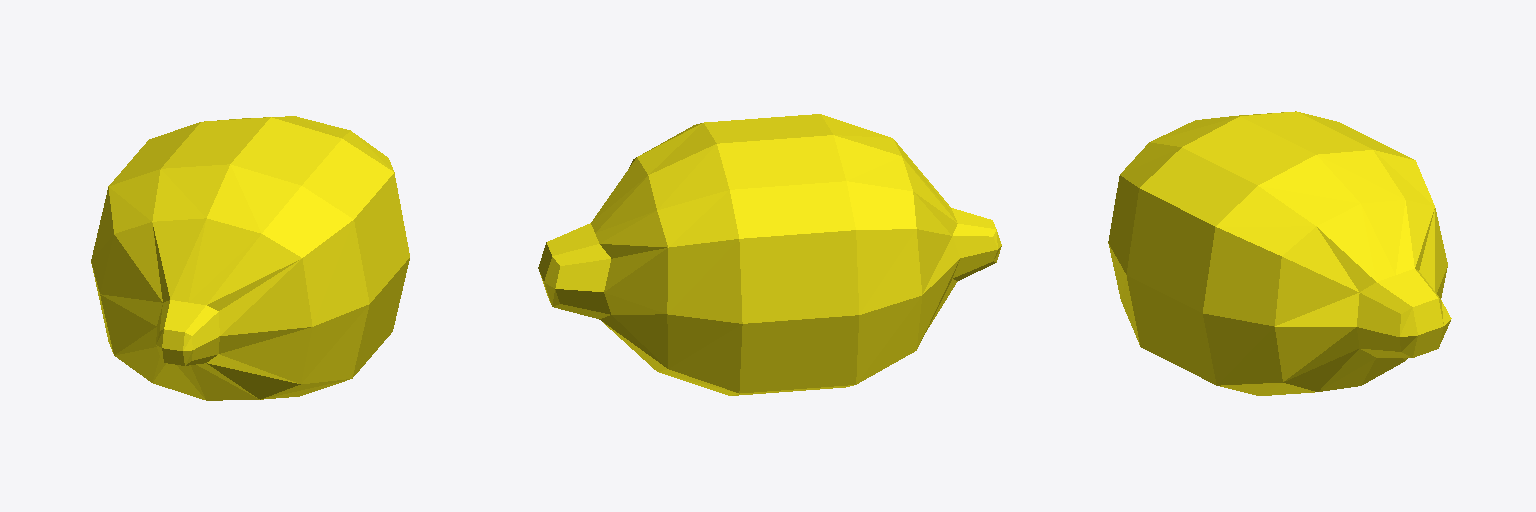
File: lemon.obj
3 views of the same model, side by side, from view 1: azimuth 30°, elevation 25°; view 2: azimuth 150°, elevation 25°; view 3: azimuth 270°, elevation 25° (orthographic).
Parts seen in each view (by area): view 1: Lemon; view 2: Lemon; view 3: Lemon.
Boxes of the visible parts, x1=… form: Lemon: x1=91, y1=116, x2=409, y2=400; Lemon: x1=538, y1=114, x2=1001, y2=395; Lemon: x1=1108, y1=111, x2=1451, y2=395.
Bounding box in the file's own units: 11.68 × 7.95 × 10.54.